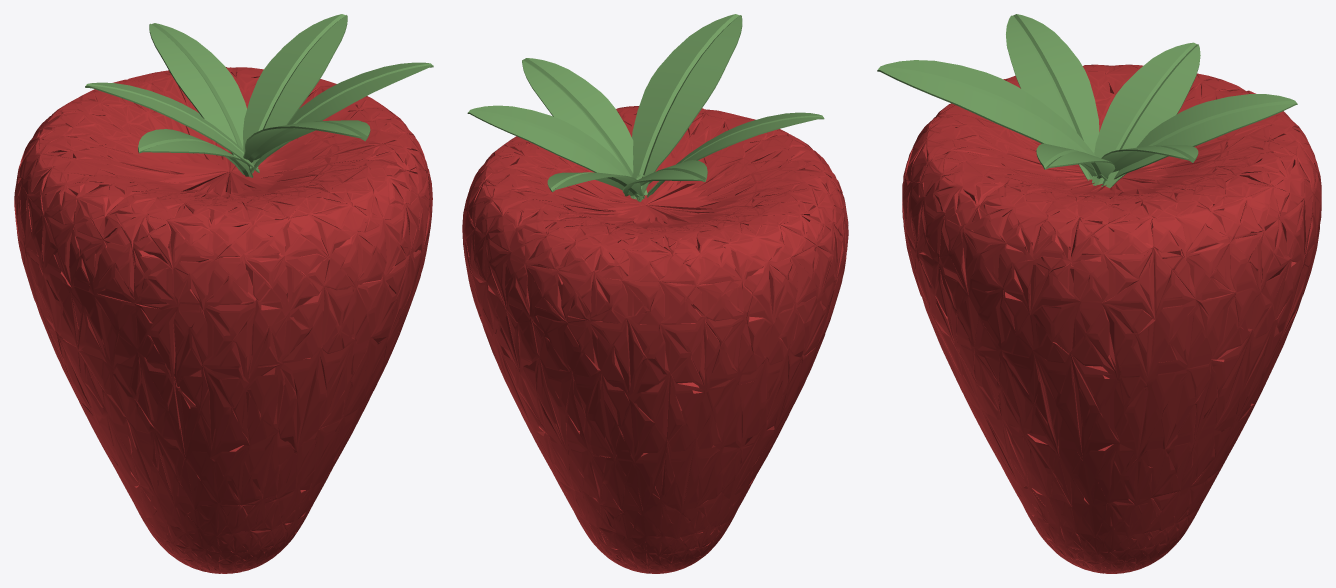
Rendered from Frutillitaok.fbx.
3 views of the same model, side by side, from view 1: azimuth 30°, elevation 25°; view 2: azimuth 150°, elevation 25°; view 3: azimuth 270°, elevation 25° (orthographic). The views are drawn at different scales.
Visible parts, largest first — view 1: Sphere, Circle.006, Circle, Circle.003, Circle.001, Circle.004, Circle.002; view 2: Sphere, Circle.004, Circle.003, Circle.006, Circle.002, Circle, Circle.001; view 3: Sphere, Circle.004, Circle.002, Circle.001, Circle, Circle.003, Circle.006.
Part boxes in pixels (x1,y1,x2,y2): Sphere: (14,67,432,573); Circle.006: (243,14,347,173); Circle: (149,23,246,158); Circle.003: (250,62,433,172); Circle.001: (85,82,259,172); Circle.004: (243,120,370,162); Circle.002: (138,129,253,177); Sphere: (462,106,848,573); Circle.004: (630,14,742,201); Circle.003: (522,58,647,195); Circle.006: (467,105,644,199); Circle.002: (647,112,824,197); Circle: (547,172,644,198); Circle.001: (622,160,707,196); Sphere: (902,64,1321,573); Circle.004: (877,60,1107,180); Circle.002: (1006,14,1099,180); Circle.001: (1092,42,1200,187); Circle: (1114,94,1297,179); Circle.003: (1036,143,1115,179); Circle.006: (1097,145,1198,178).
Size of the model in its own units: 121 by 163 by 129.
